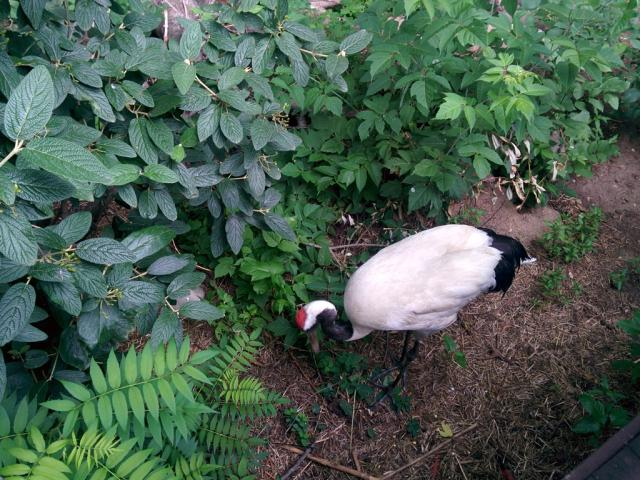Bird: (294, 216, 543, 420)
